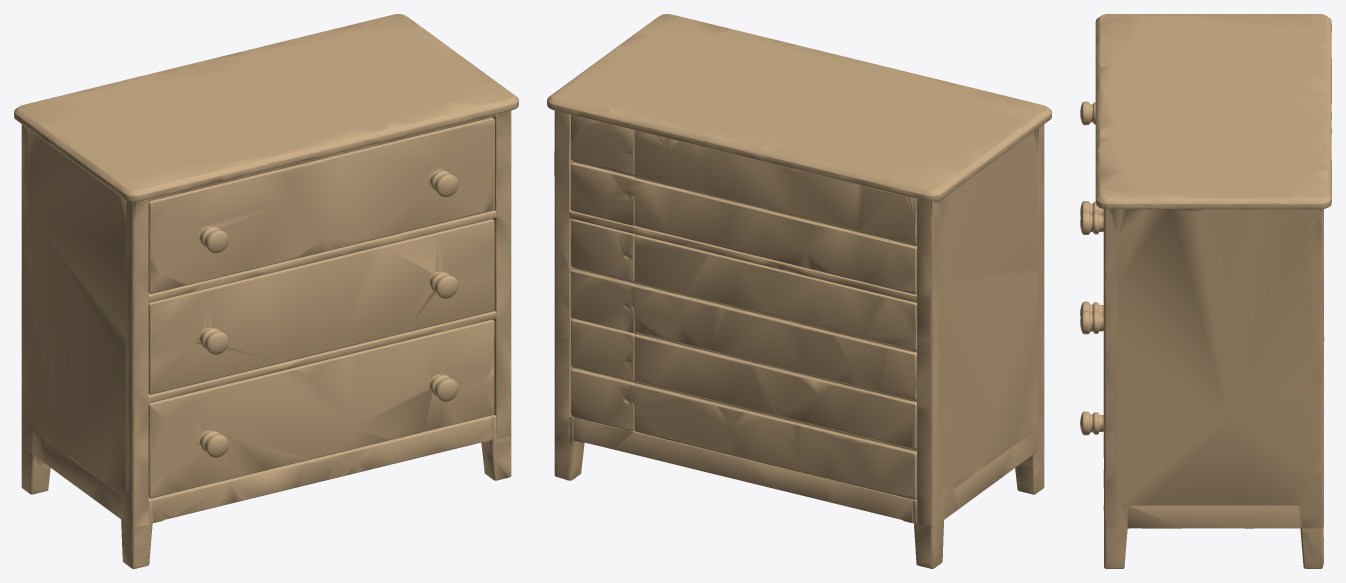
File: gen-chest-of-drawers-pine-1.glb
3 views of the same model, side by side, from view 1: azimuth 30°, elevation 25°; view 2: azimuth 150°, elevation 25°; view 3: azimuth 270°, elevation 25° (orthographic). The views are drawn at different scales.
Visible parts, largest first — view 1: gen-chest-of-drawers-pine-1_part1; view 2: gen-chest-of-drawers-pine-1_part1; view 3: gen-chest-of-drawers-pine-1_part1.
Part boxes in pixels (x1,y1,x2,y2): gen-chest-of-drawers-pine-1_part1: (14, 14, 518, 568); gen-chest-of-drawers-pine-1_part1: (547, 14, 1051, 568); gen-chest-of-drawers-pine-1_part1: (1080, 14, 1331, 568).
Bounding box in the file's own units: 921 × 850 × 520.
